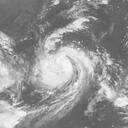cyclone: (34, 47, 92, 91)
